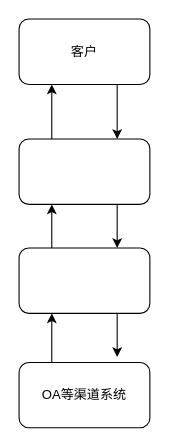
Some shapes in this 169 by 447 pixel diagram are drawn without their labels. Each missing label, with the centre of its shape:
"ESB" belongs at point 84,280.
"短信平台" belongs at point 84,171.
